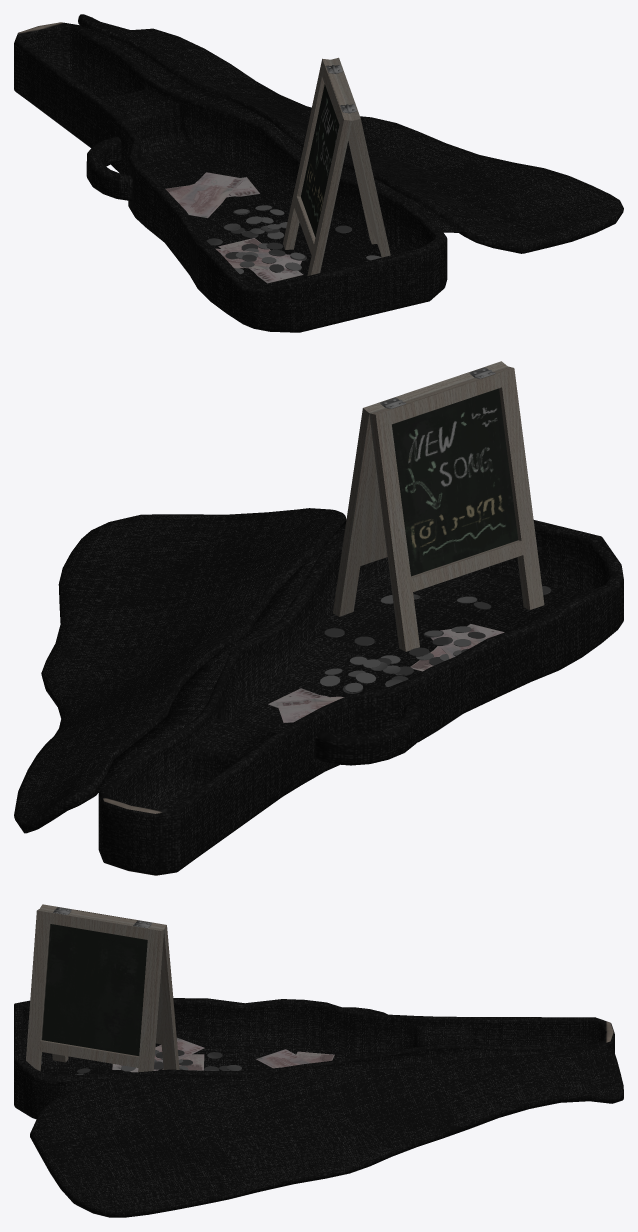
File: streetPerform.fbx
3 views of the same model, one above another, from view 1: azimuth 30°, elevation 25°; view 2: azimuth 150°, elevation 25°; view 3: azimuth 270°, elevation 25° (orthographic). The views are drawn at different scales.
Visible parts, largest first — view 1: Circle.002; view 2: Circle.002; view 3: Circle.002.
Part boxes in pixels (left/top/right/bottom): Circle.002: left=14, top=14, right=623, bottom=332; Circle.002: left=14, top=361, right=623, bottom=875; Circle.002: left=14, top=904, right=623, bottom=1217.
Size of the model in its own units: 144 by 64.46 by 203.
1 material, 1 textured.
